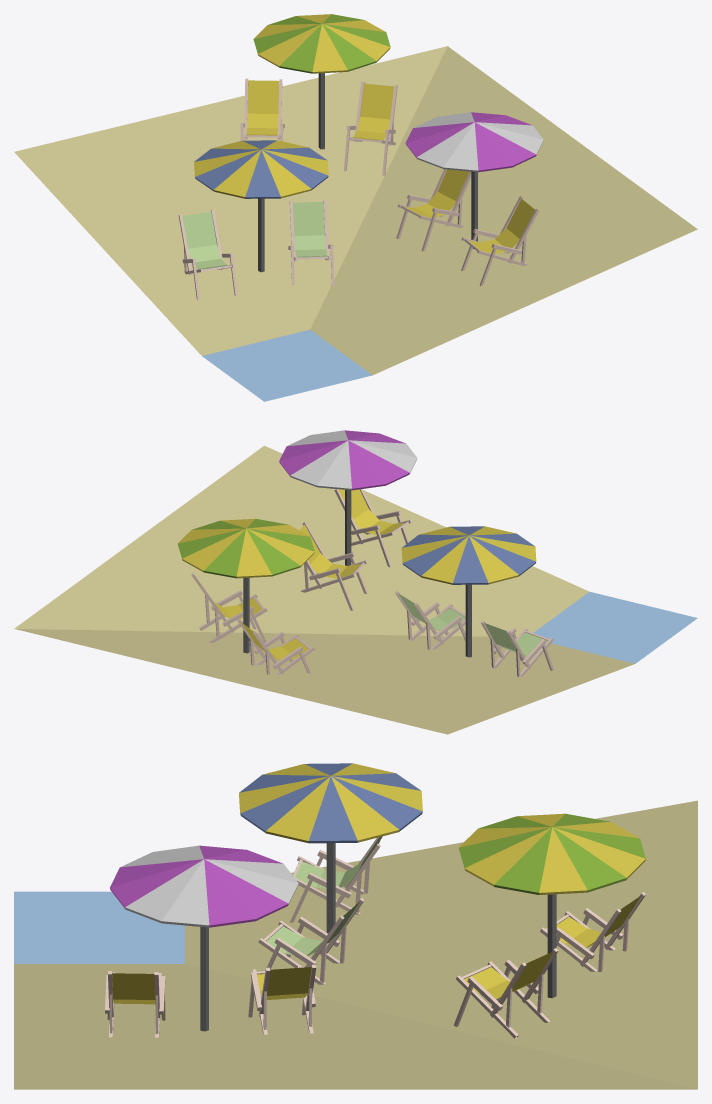
The model's file is beach_tile_1x1_002.fbx.
The picture shows the model from 3 angles, top to bottom: view 1: azimuth 30°, elevation 25°; view 2: azimuth 150°, elevation 25°; view 3: azimuth 270°, elevation 25°; orthographic projection. The views are drawn at different scales.
Parts seen in each view (by area): view 1: beach_tile_1x1_002; view 2: beach_tile_1x1_002; view 3: beach_tile_1x1_002.
Part boxes in pixels (x1,y1,x2,y2): beach_tile_1x1_002: [14, 14, 697, 401]; beach_tile_1x1_002: [14, 430, 697, 734]; beach_tile_1x1_002: [14, 763, 697, 1089].
Bounding box in the file's own units: 800 × 303 × 800.
